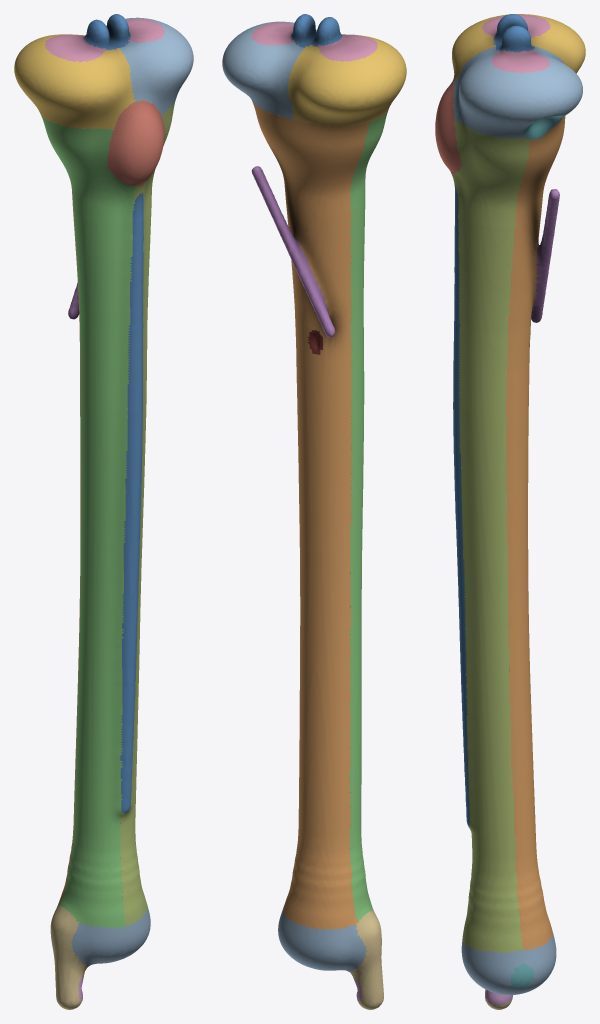
The model's file is tibia-cara-anterior.glb.
The picture shows the model from 3 angles, left to right: view 1: azimuth 30°, elevation 25°; view 2: azimuth 150°, elevation 25°; view 3: azimuth 270°, elevation 25°; orthographic projection. The views are drawn at different scales.
Parts seen in each view (by area): view 1: tibia_L_medial_surface, tibia_L_anterior_crest, tibia_L_medial_condyle, tibia_L_lateral_surface, tibia_L_lateral_condyle, tibia_L_tibial_tuberosity, tibia_L_distal_end, tibia_L_medial_malleolus, tibia_L_glenoid_cavities, tibia_L_intercondylar_eminence, tibia_L_posterior_surface; view 2: tibia_L_posterior_surface, tibia_L_medial_surface, tibia_L_medial_condyle, tibia_L_lateral_condyle, tibia_L_distal_end, tibia_L_soleal_line, tibia_L_medial_malleolus, tibia_L_glenoid_cavities, tibia_L_intercondylar_eminence; view 3: tibia_L_lateral_surface, tibia_L_posterior_surface, tibia_L_lateral_condyle, tibia_L_anterior_crest, tibia_L_distal_end, tibia_L_medial_condyle, tibia_L_glenoid_cavities, tibia_L_soleal_line, tibia_L_tibial_tuberosity, tibia_L_intercondylar_eminence, tibia_L_fibular_facet, tibia_L_fibular_notch.
Boxes of the visible parts, box(x1,y1,x2,y2) form: tibia_L_medial_surface: box(40, 113, 136, 928); tibia_L_anterior_crest: box(120, 192, 143, 813); tibia_L_medial_condyle: box(14, 34, 135, 129); tibia_L_lateral_surface: box(120, 101, 175, 926); tibia_L_lateral_condyle: box(119, 17, 193, 116); tibia_L_tibial_tuberosity: box(106, 100, 164, 186); tibia_L_distal_end: box(57, 891, 150, 966); tibia_L_medial_malleolus: box(50, 905, 87, 1009); tibia_L_glenoid_cavities: box(44, 18, 165, 62); tibia_L_intercondylar_eminence: box(83, 14, 131, 50); tibia_L_posterior_surface: box(57, 185, 132, 905); tibia_L_posterior_surface: box(253, 102, 370, 929); tibia_L_medial_surface: box(349, 111, 387, 922); tibia_L_medial_condyle: box(288, 34, 406, 126); tibia_L_lateral_condyle: box(222, 21, 316, 119); tibia_L_distal_end: box(278, 908, 367, 971); tibia_L_soleal_line: box(251, 166, 335, 337); tibia_L_medial_malleolus: box(349, 910, 383, 1009); tibia_L_glenoid_cavities: box(251, 22, 377, 61); tibia_L_intercondylar_eminence: box(290, 14, 342, 47); tibia_L_lateral_surface: box(451, 120, 530, 952); tibia_L_posterior_surface: box(505, 116, 565, 950); tibia_L_lateral_condyle: box(453, 46, 582, 138); tibia_L_anterior_crest: box(453, 184, 469, 827); tibia_L_distal_end: box(461, 932, 556, 995); tibia_L_medial_condyle: box(452, 14, 585, 82); tibia_L_glenoid_cavities: box(481, 14, 550, 73); tibia_L_soleal_line: box(531, 189, 559, 322); tibia_L_tibial_tuberosity: box(435, 82, 462, 174); tibia_L_intercondylar_eminence: box(493, 14, 534, 52); tibia_L_fibular_facet: box(523, 114, 564, 140); tibia_L_fibular_notch: box(511, 964, 534, 987).
Size of the model in its own units: 0.0709 by 0.4102 by 0.0553.
